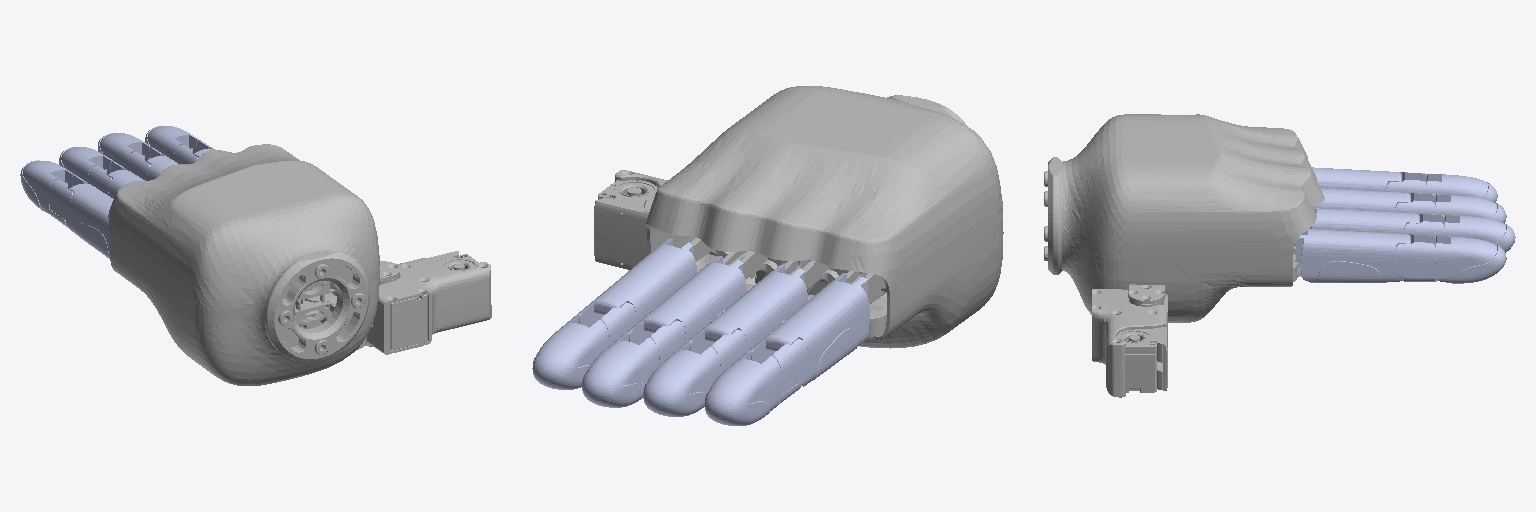
robot.urdf — Dex5-URDF-L:
<robot name="Dex5-URDF-L">
  <mujoco>
    <compiler meshdir="meshes" discardvisual="false"/>
  </mujoco>
  <link name="base_link_L">
    <inertial>
      <origin xyz="-0.0227590758806084 0.027982 0.0119348470032202" rpy="0 0 0"/>
      <mass value="0.732177466301149"/>
      <inertia ixx="4.73937555345999E-04" ixy="1.71786934123191E-05" ixz="9.33281320777651E-07" iyy="5.5298572334445E-04" iyz="1.82790564520838E-05" izz="8.49303641851949E-04"/>
    </inertial>
    <visual>
      <origin xyz="0 0 0" rpy="0 0 0"/>
      <geometry>
        <mesh filename="meshes/base_link_L.STL"/>
      </geometry>
      <material name="">
        <color rgba="0.752941176470588 0.752941176470588 0.752941176470588 1"/>
      </material>
    </visual>
    <collision>
      <origin xyz="0 0 0" rpy="0 0 0"/>
      <geometry>
        <mesh filename="meshes/base_link_L.STL"/>
      </geometry>
    </collision>
  </link>
  <link name="Link_11L">
    <inertial>
      <origin xyz="-0.008418 0.000123 -0.003247" rpy="0 0 0"/>
      <mass value="0.02363"/>
      <inertia ixx="2.641049E-06" ixy="1.9442E-08" ixz="1.8132E-07" iyy="3.607134E-06" iyz="5.837E-09" izz="3.860781E-06"/>
    </inertial>
    <visual>
      <origin xyz="0 0 0" rpy="0 0 0"/>
      <geometry>
        <mesh filename="meshes/Link_11L.STL"/>
      </geometry>
      <material name="">
        <color rgba="0.752941176470588 0.752941176470588 0.752941176470588 1"/>
      </material>
    </visual>
    <collision>
      <origin xyz="0 0 0" rpy="0 0 0"/>
      <geometry>
        <mesh filename="meshes/Link_11L.STL"/>
      </geometry>
    </collision>
  </link>
  <joint name="Yaw_11L" type="revolute">
    <origin xyz="0 0 -0.0143499999999992" rpy="0 0 0"/>
    <parent link="base_link_L"/>
    <child link="Link_11L"/>
    <axis xyz="0 0 1"/>
    <limit lower="-0.57596" upper="0.76794" effort="0.93" velocity="4.18"/>
  </joint>
  <link name="Link_12L">
    <inertial>
      <origin xyz="0.014668 0.000013 -0.004099" rpy="0 0 0"/>
      <mass value="0.015809"/>
      <inertia ixx="3.066476E-06" ixy="-4.497E-9" ixz="2.22721E-7" iyy="4.049699E-06" iyz="1.404E-9" izz="3.627081E-06"/>
    </inertial>
    <visual>
      <origin xyz="0 0 0" rpy="0 0 0"/>
      <geometry>
        <mesh filename="meshes/Link_12L.STL"/>
      </geometry>
      <material name="">
        <color rgba="0.752941176470588 0.752941176470588 0.752941176470588 1"/>
      </material>
    </visual>
    <collision>
      <origin xyz="0 0 0" rpy="0 0 0"/>
      <geometry>
        <mesh filename="meshes/Link_12L.STL"/>
      </geometry>
    </collision>
  </link>
  <joint name="Roll_12L" type="revolute">
    <origin xyz="-1.0604101991607E-05 0 0" rpy="1.5707963267949 0 0"/>
    <parent link="Link_11L"/>
    <child link="Link_12L"/>
    <axis xyz="0 0 1"/>
    <limit lower="-1.8151" upper="0" effort="0.93" velocity="4.18"/>
  </joint>
  <link name="Link_13L">
    <inertial>
      <origin xyz="0.018557 -0.006933 0.000159" rpy="0 0 0"/>
      <mass value="0.06674"/>
      <inertia ixx="9.105565E-06" ixy="-1.948696E-06" ixz="2.9291E-08" iyy="2.2925394E-05" iyz="-0.816E-09" izz="2.3878954E-05"/>
    </inertial>
    <visual>
      <origin xyz="0 0 0" rpy="0 0 0"/>
      <geometry>
        <mesh filename="meshes/Link_13L.STL"/>
      </geometry>
      <material name="">
        <color rgba="0.752941176470588 0.752941176470588 0.752941176470588 1"/>
      </material>
    </visual>
    <collision>
      <origin xyz="0 0 0" rpy="0 0 0"/>
      <geometry>
        <mesh filename="meshes/Link_13L.STL"/>
      </geometry>
    </collision>
  </link>
  <joint name="Pitch_13L" type="revolute">
    <origin xyz="0.0334999999999999 0 -0.00600000000003837" rpy="-1.57079632679489 0 0"/>
    <parent link="Link_12L"/>
    <child link="Link_13L"/>
    <axis xyz="0 0 1"/>
    <limit lower="0" upper="1.9548" effort="0.93" velocity="4.18"/>
  </joint>
  <link name="Link_14L">
    <inertial>
      <origin xyz="0.028085 0.003322 0.000472" rpy="0 0 0"/>
      <mass value="0.020073"/>
      <inertia ixx="1.93782E-06" ixy="-1.69818E-07" ixz="1.24848E-07" iyy="6.083181E-06" iyz="2.0791E-08" izz="5.614839E-06"/>
    </inertial>
    <visual>
      <origin xyz="0 0 0" rpy="0 0 0"/>
      <geometry>
        <mesh filename="meshes/Link_14L.STL"/>
      </geometry>
      <material name="">
        <color rgba="0.752941176470588 0.752941176470588 0.752941176470588 1"/>
      </material>
    </visual>
    <collision>
      <origin xyz="0 0 0" rpy="0 0 0"/>
      <geometry>
        <mesh filename="meshes/Link_14L.STL"/>
      </geometry>
    </collision>
  </link>
  <joint name="Pitch_14L" type="revolute">
    <origin xyz="0.0366088275363755 -0.00536597803648681 0" rpy="0 0 0"/>
    <parent link="Link_13L"/>
    <child link="Link_14L"/>
    <axis xyz="0 0 1"/>
    <limit lower="0" upper="1.6406" effort="0.93" velocity="4.18"/>
  </joint>
  <link name="Link_21L">
    <inertial>
      <origin xyz="0.007826 -0.000005 -0.004125" rpy="0 0 0"/>
      <mass value="0.004497"/>
      <inertia ixx="8.9889E-08" ixy="-4.9E-11" ixz="3.7079E-08" iyy="1.37514E-07" iyz="-1.18E-10" izz="9.6125E-08"/>
    </inertial>
    <visual>
      <origin xyz="0 0 0" rpy="0 0 0"/>
      <geometry>
        <mesh filename="meshes/Link_21L.STL"/>
      </geometry>
      <material name="">
        <color rgba="0.792156862745098 0.819607843137255 0.933333333333333 1"/>
      </material>
    </visual>
    <collision>
      <origin xyz="0 0 0" rpy="0 0 0"/>
      <geometry>
        <mesh filename="meshes/Link_21L.STL"/>
      </geometry>
    </collision>
  </link>
  <joint name="Roll_21L" type="revolute">
    <origin xyz="0.0100000000000016 0.0731433586578309 0.00347021644327265" rpy="-3.14159265358979 0 1.5707963267949"/>
    <parent link="base_link_L"/>
    <child link="Link_21L"/>
    <axis xyz="0 0 1"/>
    <limit lower="-0.38397" upper="0.38397" effort="0.93" velocity="0.76794"/>
  </joint>
  <link name="Link_22L">
    <inertial>
      <origin xyz="0.021242 -0.005936 0.000059" rpy="0 0 0"/>
      <mass value="0.017982"/>
      <inertia ixx="1.206794E-06" ixy="-1.30843E-07" ixz="-2.335E-09" iyy="4.081109E-06" iyz="1.219E-09" izz="4.370124E-06"/>
    </inertial>
    <visual>
      <origin xyz="0 0 0" rpy="0 0 0"/>
      <geometry>
        <mesh filename="meshes/Link_22L.STL"/>
      </geometry>
      <material name="">
        <color rgba="0.792156862745098 0.819607843137255 0.933333333333333 1"/>
      </material>
    </visual>
    <collision>
      <origin xyz="0 0 0" rpy="0 0 0"/>
      <geometry>
        <mesh filename="meshes/Link_22L.STL"/>
      </geometry>
    </collision>
  </link>
  <joint name="Pitch_22L" type="revolute">
    <origin xyz="0.00419999999999998 0 0" rpy="1.5707963267949 0 0"/>
    <parent link="Link_21L"/>
    <child link="Link_22L"/>
    <axis xyz="0 0 1"/>
    <limit lower="0" upper="1.5708" effort="0.93" velocity="3.1416"/>
  </joint>
  <link name="Link_23L">
    <inertial>
      <origin xyz="0.011393 -0.005777 0.000001" rpy="0 0 0"/>
      <mass value="0.012776"/>
      <inertia ixx="6.38115E-07" ixy="5.5121E-08" ixz="-4.97E-10" iyy="6.31505E-07" iyz="-1.43E-10" izz="8.2943E-07"/>
    </inertial>
    <visual>
      <origin xyz="0 0 0" rpy="0 0 0"/>
      <geometry>
        <mesh filename="meshes/Link_23L.STL"/>
      </geometry>
      <material name="">
        <color rgba="0.792156862745098 0.819607843137255 0.933333333333333 1"/>
      </material>
    </visual>
    <collision>
      <origin xyz="0 0 0" rpy="0 0 0"/>
      <geometry>
        <mesh filename="meshes/Link_23L.STL"/>
      </geometry>
    </collision>
  </link>
  <joint name="Pitch_23L" type="revolute">
    <origin xyz="0.039999999999998 0 0" rpy="0 0 0"/>
    <parent link="Link_22L"/>
    <child link="Link_23L"/>
    <axis xyz="0 0 1"/>
    <limit lower="0" upper="1.684242699" effort="0.93" velocity="3.3685"/>
  </joint>
  <link name="Link_24L">
    <inertial>
      <origin xyz="0.009354 -0.004824 0.000072" rpy="0 0 0"/>
      <mass value="0.00639891165893413"/>
      <inertia ixx="4.9531E-07" ixy="-1.09285E-07" ixz="8.84E-10" iyy="1.466772E-06" iyz="4.47E-10" izz="1.448234E-06"/>
    </inertial>
    <visual>
      <origin xyz="0 0 0" rpy="0 0 0"/>
      <geometry>
        <mesh filename="meshes/Link_24L.STL"/>
      </geometry>
      <material name="">
        <color rgba="0.792156862745098 0.819607843137255 0.933333333333333 1"/>
      </material>
    </visual>
    <collision>
      <origin xyz="0 0 0" rpy="0 0 0"/>
      <geometry>
        <mesh filename="meshes/Link_24L.STL"/>
      </geometry>
    </collision>
  </link>
  <joint name="Pitch_24L" type="revolute">
    <origin xyz="0.020985 0.0008043 0" rpy="0 0 0"/>
    <parent link="Link_23L"/>
    <child link="Link_24L"/>
    <axis xyz="0 0 1"/>
    <limit lower="0" upper="1.3963" effort="0.93" velocity="2.7925"/>
  </joint>
  <link name="Link_31L">
    <inertial>
      <origin xyz="0.007826 -0.000005 -0.004125" rpy="0 0 0"/>
      <mass value="0.004497"/>
      <inertia ixx="8.9889E-08" ixy="-4.9E-11" ixz="3.7079E-08" iyy="1.37514E-07" iyz="-1.18E-10" izz="9.6125E-08"/>
    </inertial>
    <visual>
      <origin xyz="0 0 0" rpy="0 0 0"/>
      <geometry>
        <mesh filename="meshes/Link_31L.STL"/>
      </geometry>
      <material name="">
        <color rgba="0.792156862745098 0.819607843137255 0.933333333333333 1"/>
      </material>
    </visual>
    <collision>
      <origin xyz="0 0 0" rpy="0 0 0"/>
      <geometry>
        <mesh filename="meshes/Link_31L.STL"/>
      </geometry>
    </collision>
  </link>
  <joint name="Roll_31L" type="revolute">
    <origin xyz="-0.012 0.077143 0.0034702" rpy="-3.1416 0 1.5708"/>
    <parent link="base_link_L"/>
    <child link="Link_31L"/>
    <axis xyz="0 0 1"/>
    <limit lower="-0.38397" upper="0.38397" effort="0.93" velocity="0.76794"/>
  </joint>
  <link name="Link_32L">
    <inertial>
      <origin xyz="0.021242 -0.005936 0.000059" rpy="0 0 0"/>
      <mass value="0.017982"/>
      <inertia ixx="1.206794E-06" ixy="-1.30843E-07" ixz="-2.335E-09" iyy="4.081109E-06" iyz="1.219E-09" izz="4.370124E-06"/>
    </inertial>
    <visual>
      <origin xyz="0 0 0" rpy="0 0 0"/>
      <geometry>
        <mesh filename="meshes/Link_32L.STL"/>
      </geometry>
      <material name="">
        <color rgba="0.792156862745098 0.819607843137255 0.933333333333333 1"/>
      </material>
    </visual>
    <collision>
      <origin xyz="0 0 0" rpy="0 0 0"/>
      <geometry>
        <mesh filename="meshes/Link_32L.STL"/>
      </geometry>
    </collision>
  </link>
  <joint name="Pitch_32L" type="revolute">
    <origin xyz="0.00419999999999998 0 0" rpy="1.5707963267949 0 0"/>
    <parent link="Link_31L"/>
    <child link="Link_32L"/>
    <axis xyz="0 0 1"/>
    <limit lower="0" upper="1.5708" effort="0.93" velocity="3.1416"/>
  </joint>
  <link name="Link_33L">
    <inertial>
      <origin xyz="0.011393 -0.005777 0.000001" rpy="0 0 0"/>
      <mass value="0.012776"/>
      <inertia ixx="6.38115E-07" ixy="5.5121E-08" ixz="-4.97E-10" iyy="6.31505E-07" iyz="-1.43E-10" izz="8.2943E-07"/>
    </inertial>
    <visual>
      <origin xyz="0 0 0" rpy="0 0 0"/>
      <geometry>
        <mesh filename="meshes/Link_33L.STL"/>
      </geometry>
      <material name="">
        <color rgba="0.792156862745098 0.819607843137255 0.933333333333333 1"/>
      </material>
    </visual>
    <collision>
      <origin xyz="0 0 0" rpy="0 0 0"/>
      <geometry>
        <mesh filename="meshes/Link_33L.STL"/>
      </geometry>
    </collision>
  </link>
  <joint name="Pitch_33L" type="revolute">
    <origin xyz="0.04 0 0" rpy="0 0 0"/>
    <parent link="Link_32L"/>
    <child link="Link_33L"/>
    <axis xyz="0 0 1"/>
    <limit lower="0" upper="1.684242699" effort="0.93" velocity="3.3685"/>
  </joint>
  <link name="Link_34L">
    <inertial>
      <origin xyz="0.009354 -0.004824 0.000072" rpy="0 0 0"/>
      <mass value="0.00639891165893413"/>
      <inertia ixx="4.9531E-07" ixy="-1.09285E-07" ixz="8.84E-10" iyy="1.466772E-06" iyz="4.47E-10" izz="1.448234E-06"/>
    </inertial>
    <visual>
      <origin xyz="0 0 0" rpy="0 0 0"/>
      <geometry>
        <mesh filename="meshes/Link_34L.STL"/>
      </geometry>
      <material name="">
        <color rgba="0.792156862745098 0.819607843137255 0.933333333333333 1"/>
      </material>
    </visual>
    <collision>
      <origin xyz="0 0 0" rpy="0 0 0"/>
      <geometry>
        <mesh filename="meshes/Link_34L.STL"/>
      </geometry>
    </collision>
  </link>
  <joint name="Pitch_34L" type="revolute">
    <origin xyz="0.020985 0.0008043 0" rpy="0 0 0"/>
    <parent link="Link_33L"/>
    <child link="Link_34L"/>
    <axis xyz="0 0 1"/>
    <limit lower="0" upper="1.3963" effort="0.93" velocity="2.7925"/>
  </joint>
  <link name="Link_41L">
    <inertial>
      <origin xyz="0.007826 -0.000005 -0.004125" rpy="0 0 0"/>
      <mass value="0.004497"/>
      <inertia ixx="8.9889E-08" ixy="-4.9E-11" ixz="3.7079E-08" iyy="1.37514E-07" iyz="-1.18E-10" izz="9.6125E-08"/>
    </inertial>
    <visual>
      <origin xyz="0 0 0" rpy="0 0 0"/>
      <geometry>
        <mesh filename="meshes/Link_41L.STL"/>
      </geometry>
      <material name="">
        <color rgba="0.792156862745098 0.819607843137255 0.933333333333333 1"/>
      </material>
    </visual>
    <collision>
      <origin xyz="0 0 0" rpy="0 0 0"/>
      <geometry>
        <mesh filename="meshes/Link_41L.STL"/>
      </geometry>
    </collision>
  </link>
  <joint name="Link_41L" type="revolute">
    <origin xyz="-0.034 0.073143 0.0034702" rpy="-3.1416 0 1.5708"/>
    <parent link="base_link_L"/>
    <child link="Link_41L"/>
    <axis xyz="0 0 1"/>
    <limit lower="-0.38397" upper="0.38397" effort="0.93" velocity="0.76794"/>
  </joint>
  <link name="Link_42L">
    <inertial>
      <origin xyz="0.021242 -0.005936 0.000059" rpy="0 0 0"/>
      <mass value="0.017982"/>
      <inertia ixx="1.206794E-06" ixy="-1.30843E-07" ixz="-2.335E-09" iyy="4.081109E-06" iyz="1.219E-09" izz="4.370124E-06"/>
    </inertial>
    <visual>
      <origin xyz="0 0 0" rpy="0 0 0"/>
      <geometry>
        <mesh filename="meshes/Link_42L.STL"/>
      </geometry>
      <material name="">
        <color rgba="0.792156862745098 0.819607843137255 0.933333333333333 1"/>
      </material>
    </visual>
    <collision>
      <origin xyz="0 0 0" rpy="0 0 0"/>
      <geometry>
        <mesh filename="meshes/Link_42L.STL"/>
      </geometry>
    </collision>
  </link>
  <joint name="Pitch_42L" type="revolute">
    <origin xyz="0.00419999999999998 0 0" rpy="1.5707963267949 0 0"/>
    <parent link="Link_41L"/>
    <child link="Link_42L"/>
    <axis xyz="0 0 1"/>
    <limit lower="0" upper="1.5708" effort="0.93" velocity="3.1416"/>
  </joint>
  <link name="Link_43L">
    <inertial>
      <origin xyz="0.011393 -0.005777 0.000001" rpy="0 0 0"/>
      <mass value="0.012776"/>
      <inertia ixx="6.38115E-07" ixy="5.5121E-08" ixz="-4.97E-10" iyy="6.31505E-07" iyz="-1.43E-10" izz="8.2943E-07"/>
    </inertial>
    <visual>
      <origin xyz="0 0 0" rpy="0 0 0"/>
      <geometry>
        <mesh filename="meshes/Link_43L.STL"/>
      </geometry>
      <material name="">
        <color rgba="0.792156862745098 0.819607843137255 0.933333333333333 1"/>
      </material>
    </visual>
    <collision>
      <origin xyz="0 0 0" rpy="0 0 0"/>
      <geometry>
        <mesh filename="meshes/Link_43L.STL"/>
      </geometry>
    </collision>
  </link>
  <joint name="Pitch_43L" type="revolute">
    <origin xyz="0.039999999999998 0 0" rpy="0 0 0"/>
    <parent link="Link_42L"/>
    <child link="Link_43L"/>
    <axis xyz="0 0 1"/>
    <limit lower="0" upper="1.684242699" effort="0.93" velocity="3.3685"/>
  </joint>
  <link name="Link_44L">
    <inertial>
      <origin xyz="0.009354 -0.004824 0.000072" rpy="0 0 0"/>
      <mass value="0.00639891165893413"/>
      <inertia ixx="4.9531E-07" ixy="-1.09285E-07" ixz="8.84E-10" iyy="1.466772E-06" iyz="4.47E-10" izz="1.448234E-06"/>
    </inertial>
    <visual>
      <origin xyz="0 0 0" rpy="0 0 0"/>
      <geometry>
        <mesh filename="meshes/Link_44L.STL"/>
      </geometry>
      <material name="">
        <color rgba="0.792156862745098 0.819607843137255 0.933333333333333 1"/>
      </material>
    </visual>
    <collision>
      <origin xyz="0 0 0" rpy="0 0 0"/>
      <geometry>
        <mesh filename="meshes/Link_44L.STL"/>
      </geometry>
    </collision>
  </link>
  <joint name="Pitch_44L" type="revolute">
    <origin xyz="0.0209845918681 0.000804303505750904 0" rpy="0 0 0"/>
    <parent link="Link_43L"/>
    <child link="Link_44L"/>
    <axis xyz="0 0 1"/>
    <limit lower="0" upper="1.3963" effort="0.93" velocity="2.7925"/>
  </joint>
  <link name="Link_51L">
    <inertial>
      <origin xyz="0.007826 -0.000005 -0.004125" rpy="0 0 0"/>
      <mass value="0.004497"/>
      <inertia ixx="8.9889E-08" ixy="-4.9E-11" ixz="3.7079E-08" iyy="1.37514E-07" iyz="-1.18E-10" izz="9.6125E-08"/>
    </inertial>
    <visual>
      <origin xyz="0 0 0" rpy="0 0 0"/>
      <geometry>
        <mesh filename="meshes/Link_51L.STL"/>
      </geometry>
      <material name="">
        <color rgba="0.792156862745098 0.819607843137255 0.933333333333333 1"/>
      </material>
    </visual>
    <collision>
      <origin xyz="0 0 0" rpy="0 0 0"/>
      <geometry>
        <mesh filename="meshes/Link_51L.STL"/>
      </geometry>
    </collision>
  </link>
  <joint name="Roll_51L" type="revolute">
    <origin xyz="-0.0559999999999983 0.069143358657831 0.00347021644327289" rpy="-3.14159265358979 0 1.5707963267949"/>
    <parent link="base_link_L"/>
    <child link="Link_51L"/>
    <axis xyz="0 0 1"/>
    <limit lower="-0.38397" upper="0.38397" effort="0.93" velocity="0.767944858"/>
  </joint>
  <link name="Link_52L">
    <inertial>
      <origin xyz="0.021242 -0.005936 0.000059" rpy="0 0 0"/>
      <mass value="0.017982"/>
      <inertia ixx="1.206794E-06" ixy="-1.30843E-07" ixz="-2.335E-09" iyy="4.081109E-06" iyz="1.219E-09" izz="4.370124E-06"/>
    </inertial>
    <visual>
      <origin xyz="0 0 0" rpy="0 0 0"/>
      <geometry>
        <mesh filename="meshes/Link_52L.STL"/>
      </geometry>
      <material name="">
        <color rgba="0.792156862745098 0.819607843137255 0.933333333333333 1"/>
      </material>
    </visual>
    <collision>
      <origin xyz="0 0 0" rpy="0 0 0"/>
      <geometry>
        <mesh filename="meshes/Link_52L.STL"/>
      </geometry>
    </collision>
  </link>
  <joint name="Pitch_52L" type="revolute">
    <origin xyz="0.00419999999999998 0 0" rpy="1.5707963267949 0 0"/>
    <parent link="Link_51L"/>
    <child link="Link_52L"/>
    <axis xyz="0 0 1"/>
    <limit lower="0" upper="1.5708" effort="0.93" velocity="3.1416"/>
  </joint>
  <link name="Link_53L">
    <inertial>
      <origin xyz="0.011393 -0.005777 0.000001" rpy="0 0 0"/>
      <mass value="0.012776"/>
      <inertia ixx="6.38115E-07" ixy="5.5121E-08" ixz="-4.97E-10" iyy="6.31505E-07" iyz="-1.43E-10" izz="8.2943E-07"/>
    </inertial>
    <visual>
      <origin xyz="0 0 0" rpy="0 0 0"/>
      <geometry>
        <mesh filename="meshes/Link_53L.STL"/>
      </geometry>
      <material name="">
        <color rgba="0.792156862745098 0.819607843137255 0.933333333333333 1"/>
      </material>
    </visual>
    <collision>
      <origin xyz="0 0 0" rpy="0 0 0"/>
      <geometry>
        <mesh filename="meshes/Link_53L.STL"/>
      </geometry>
    </collision>
  </link>
  <joint name="Pitch_53L" type="revolute">
    <origin xyz="0.039999999999998 0 0" rpy="0 0 0"/>
    <parent link="Link_52L"/>
    <child link="Link_53L"/>
    <axis xyz="0 0 1"/>
    <limit lower="0" upper="1.684242699" effort="0.93" velocity="3.3685"/>
  </joint>
  <link name="Link_54L">
    <inertial>
      <origin xyz="0.009354 -0.004824 0.000072" rpy="0 0 0"/>
      <mass value="0.00639891165893413"/>
      <inertia ixx="4.9531E-07" ixy="-1.09285E-07" ixz="8.84E-10" iyy="1.466772E-06" iyz="4.47E-10" izz="1.448234E-06"/>
    </inertial>
    <visual>
      <origin xyz="0 0 0" rpy="0 0 0"/>
      <geometry>
        <mesh filename="meshes/Link_54L.STL"/>
      </geometry>
      <material name="">
        <color rgba="0.792156862745098 0.819607843137255 0.933333333333333 1"/>
      </material>
    </visual>
    <collision>
      <origin xyz="0 0 0" rpy="0 0 0"/>
      <geometry>
        <mesh filename="meshes/Link_54L.STL"/>
      </geometry>
    </collision>
  </link>
  <joint name="Pitch_54L" type="revolute">
    <origin xyz="0.0209845918681 0.000804303505750904 0" rpy="0 0 0"/>
    <parent link="Link_53L"/>
    <child link="Link_54L"/>
    <axis xyz="0 0 1"/>
    <limit lower="0" upper="1.3963" effort="0.93" velocity="2.7925"/>
  </joint>
</robot>

--- What the picture shows (computed from the rendered views, not written in the file) ---
Views: 3 orthographic renders of the robot side by side, from view 1: azimuth 30°, elevation 25°; view 2: azimuth 150°, elevation 25°; view 3: azimuth 270°, elevation 25°.
Model Dex5-URDF-L with 21 links and 20 joints (20 revolute), rooted at base_link_L, posed every joint at zero.
Links seen in each view (by area): view 1: base_link_L, Link_13L, Link_52L, Link_54L, Link_34L, Link_44L, Link_24L, Link_53L, Link_43L, Link_33L; view 2: base_link_L, Link_52L, Link_13L, Link_42L, Link_32L, Link_22L, Link_54L, Link_34L, Link_44L, Link_24L, Link_53L, Link_33L (+2 smaller); view 3: base_link_L, Link_13L, Link_22L, Link_24L, Link_32L, Link_42L, Link_23L, Link_52L, Link_34L, Link_44L, Link_54L, Link_33L (+3 smaller).
Link boxes in pixels (x1=…): base_link_L: x1=108, y1=144, x2=379, y2=385; Link_13L: x1=367, y1=251, x2=491, y2=354; Link_52L: x1=66, y1=183, x2=113, y2=258; Link_54L: x1=20, y1=160, x2=76, y2=213; Link_34L: x1=98, y1=133, x2=152, y2=168; Link_44L: x1=59, y1=147, x2=114, y2=181; Link_24L: x1=145, y1=126, x2=200, y2=159; Link_53L: x1=50, y1=175, x2=95, y2=226; Link_43L: x1=88, y1=162, x2=130, y2=194; Link_33L: x1=127, y1=148, x2=168, y2=180; base_link_L: x1=646, y1=86, x2=1003, y2=348; Link_52L: x1=766, y1=273, x2=869, y2=386; Link_13L: x1=594, y1=170, x2=667, y2=269; Link_42L: x1=705, y1=265, x2=807, y2=352; Link_32L: x1=644, y1=256, x2=746, y2=342; Link_22L: x1=594, y1=238, x2=697, y2=324; Link_54L: x1=704, y1=351, x2=781, y2=425; Link_34L: x1=582, y1=333, x2=659, y2=407; Link_44L: x1=643, y1=342, x2=720, y2=416; Link_24L: x1=532, y1=315, x2=609, y2=389; Link_53L: x1=748, y1=332, x2=807, y2=403; Link_33L: x1=625, y1=314, x2=685, y2=364; base_link_L: x1=1044, y1=114, x2=1324, y2=322; Link_13L: x1=1092, y1=289, x2=1167, y2=397; Link_22L: x1=1296, y1=229, x2=1410, y2=282; Link_24L: x1=1435, y1=236, x2=1506, y2=283; Link_32L: x1=1309, y1=208, x2=1419, y2=233; Link_42L: x1=1313, y1=188, x2=1410, y2=211; Link_23L: x1=1395, y1=234, x2=1437, y2=281; Link_52L: x1=1312, y1=167, x2=1401, y2=191; Link_34L: x1=1445, y1=215, x2=1515, y2=252; Link_44L: x1=1436, y1=194, x2=1506, y2=223; Link_54L: x1=1427, y1=174, x2=1497, y2=202; Link_33L: x1=1404, y1=214, x2=1444, y2=235.
Bounding box of the posed robot: 0.1511 × 0.2111 × 0.0809 m (x, y, z).
20 mesh visuals loaded from 21 distinct referenced files (20 binary STL); not drawn: 1 (reference not matched to a file when rendering).